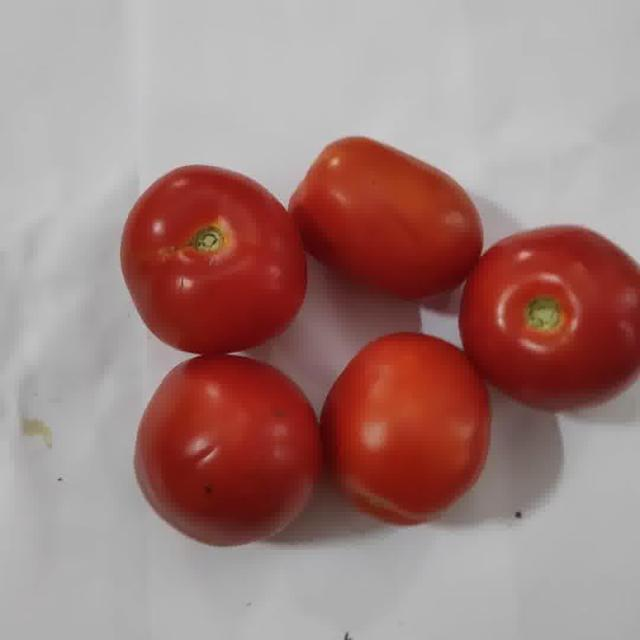Tomato: (136, 356, 321, 545), (121, 166, 306, 354), (460, 228, 639, 411), (321, 334, 491, 524), (289, 138, 482, 300)
